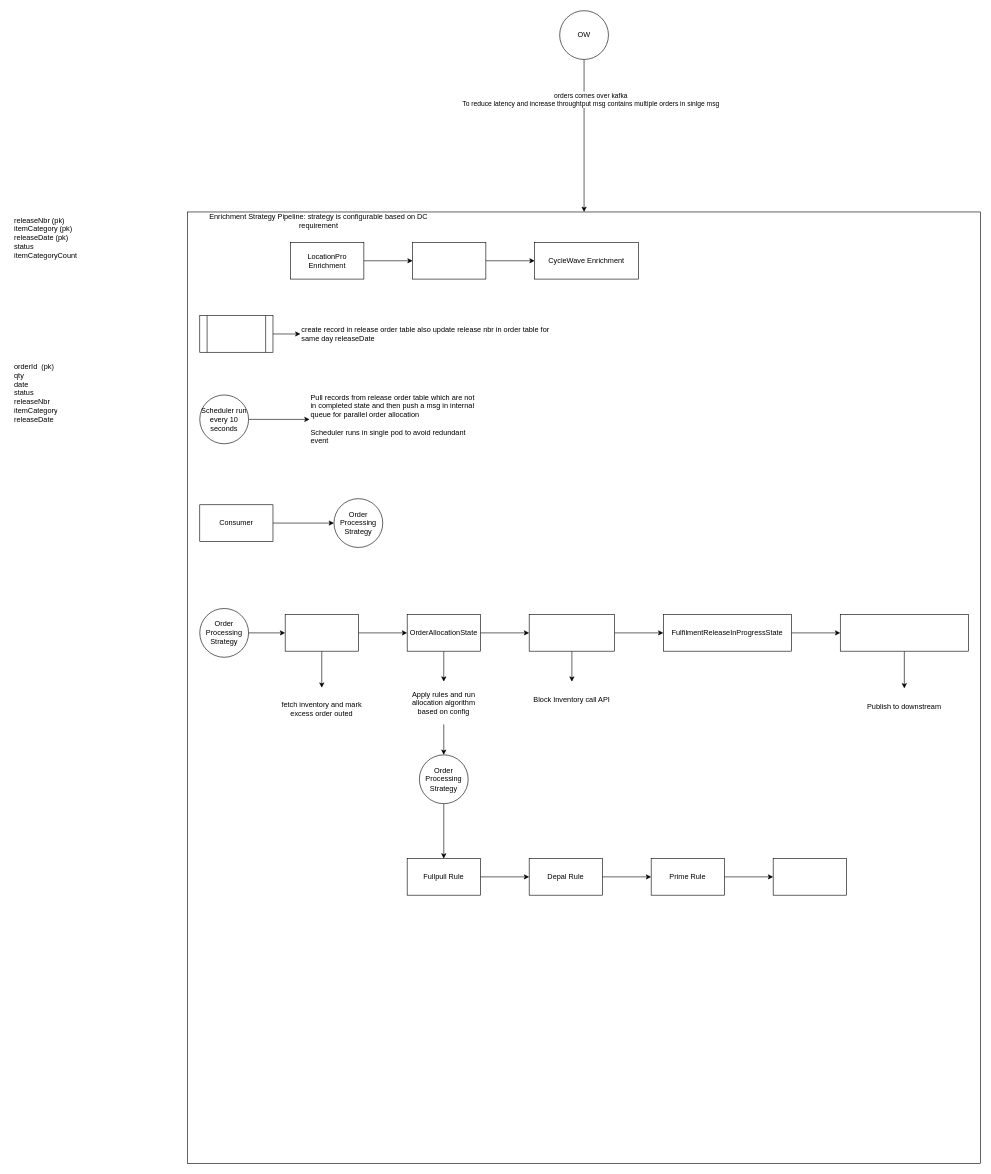
The diagram is 991 pixels wide and 1174 high, and some of its shapes have lost their labels. The centre of each missing label's shape, as x and y in pixels:
"Dashboard User click on release" goes at pixel 236 333.
"FulfilmentReleaseState" goes at pixel 904 632.
"InventoryBlockedState" goes at pixel 572 632.
"ItemProp Enrichment" goes at pixel 449 260.
"OrderReceivedState" goes at pixel 321 632.
"Residual Rule" goes at pixel 809 876.
